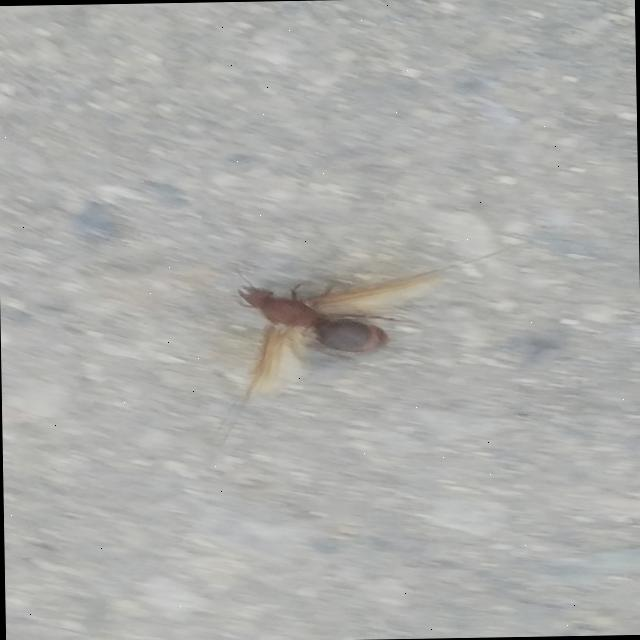Alive-Female-Alate: (230, 265, 446, 399)
